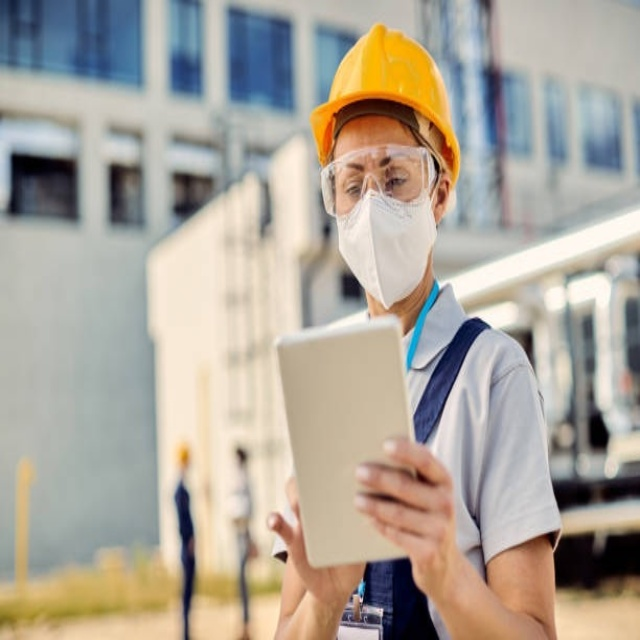Gafas: (319, 138, 438, 212)
Mascara: (330, 157, 439, 312)
Sin_guantes: (351, 433, 462, 605), (267, 468, 362, 613)
